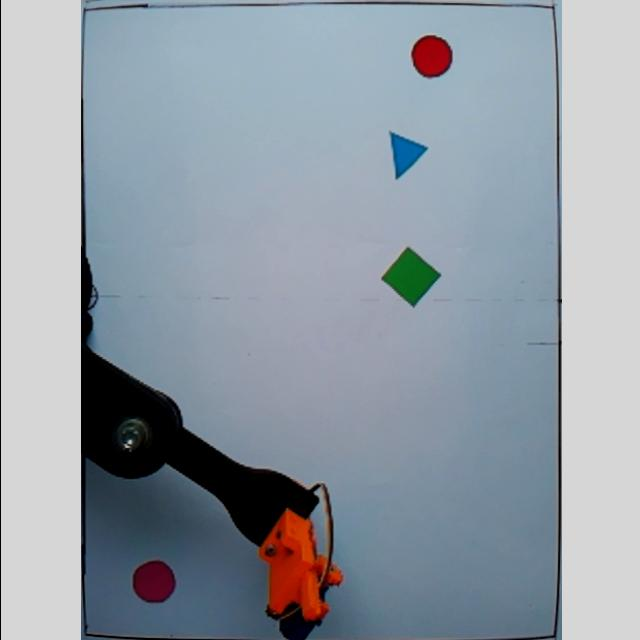blueTriangle: (384, 129, 430, 181)
greenSquare: (379, 246, 439, 306)
pinkCircle: (128, 558, 176, 604)
redCircle: (408, 34, 454, 78)
